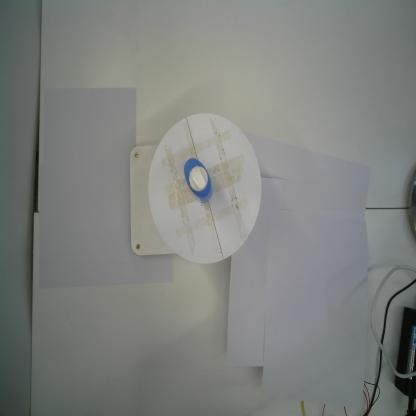Personal Hygiene: (183, 157, 213, 204)
